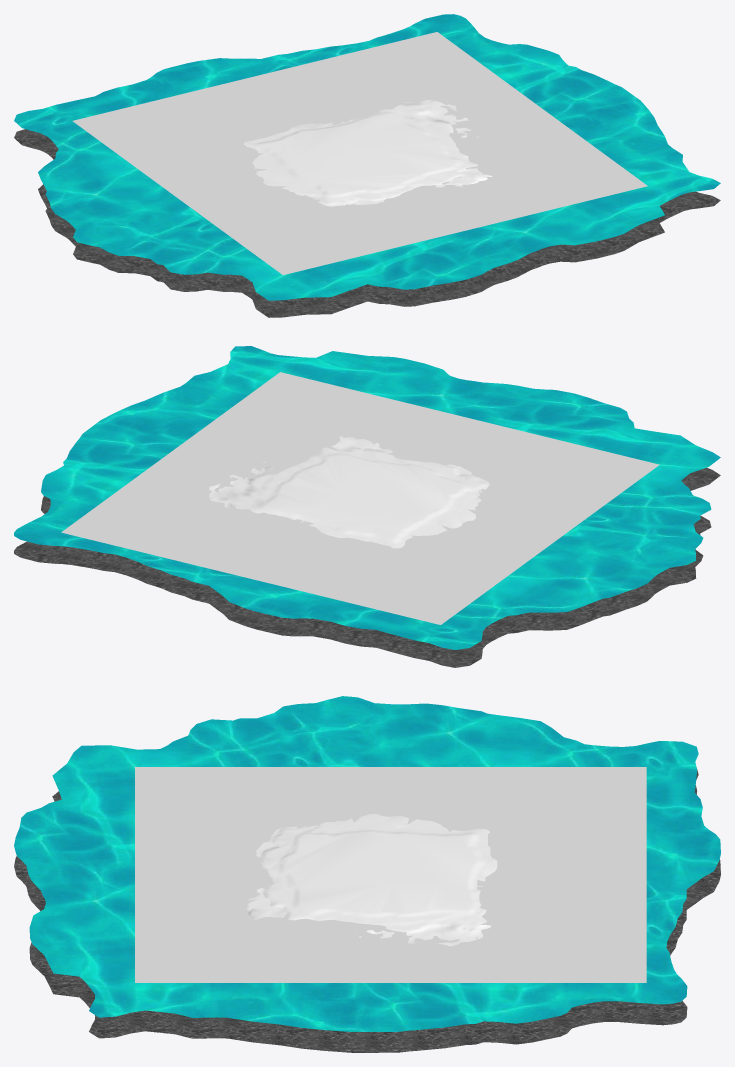
Rendered from Terrain.fbx.
The picture shows the model from 3 angles, top to bottom: view 1: azimuth 30°, elevation 25°; view 2: azimuth 150°, elevation 25°; view 3: azimuth 270°, elevation 25°; orthographic projection. The views are drawn at different scales.
Parts seen in each view (by area): view 1: shatan_shenshui, shui, shatan_dimain02, shui (1); view 2: shatan_shenshui, shui, shatan_dimain02, shui (1); view 3: shatan_shenshui, shui, shatan_dimain02, shui (1).
Boxes of the visible parts, box(x1,y1,x2,y2) form: shatan_shenshui: box(72, 32, 647, 274); shui: box(14, 14, 720, 300); shatan_dimain02: box(243, 100, 492, 206); shui (1): box(14, 129, 720, 317); shatan_shenshui: box(61, 372, 659, 624); shui: box(14, 346, 720, 649); shatan_dimain02: box(209, 436, 489, 548); shui (1): box(14, 467, 720, 667); shatan_shenshui: box(135, 767, 646, 982); shui: box(14, 696, 720, 1031); shatan_dimain02: box(246, 814, 497, 946); shui (1): box(14, 769, 720, 1052).
Bounding box in the file's own units: 226 × 7.25 × 201.
3 materials, 2 textured.
